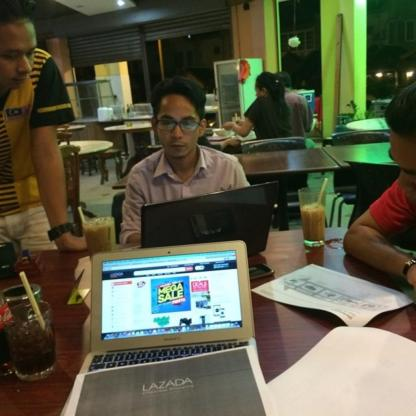board: (69, 240, 263, 404), (124, 182, 278, 251)
